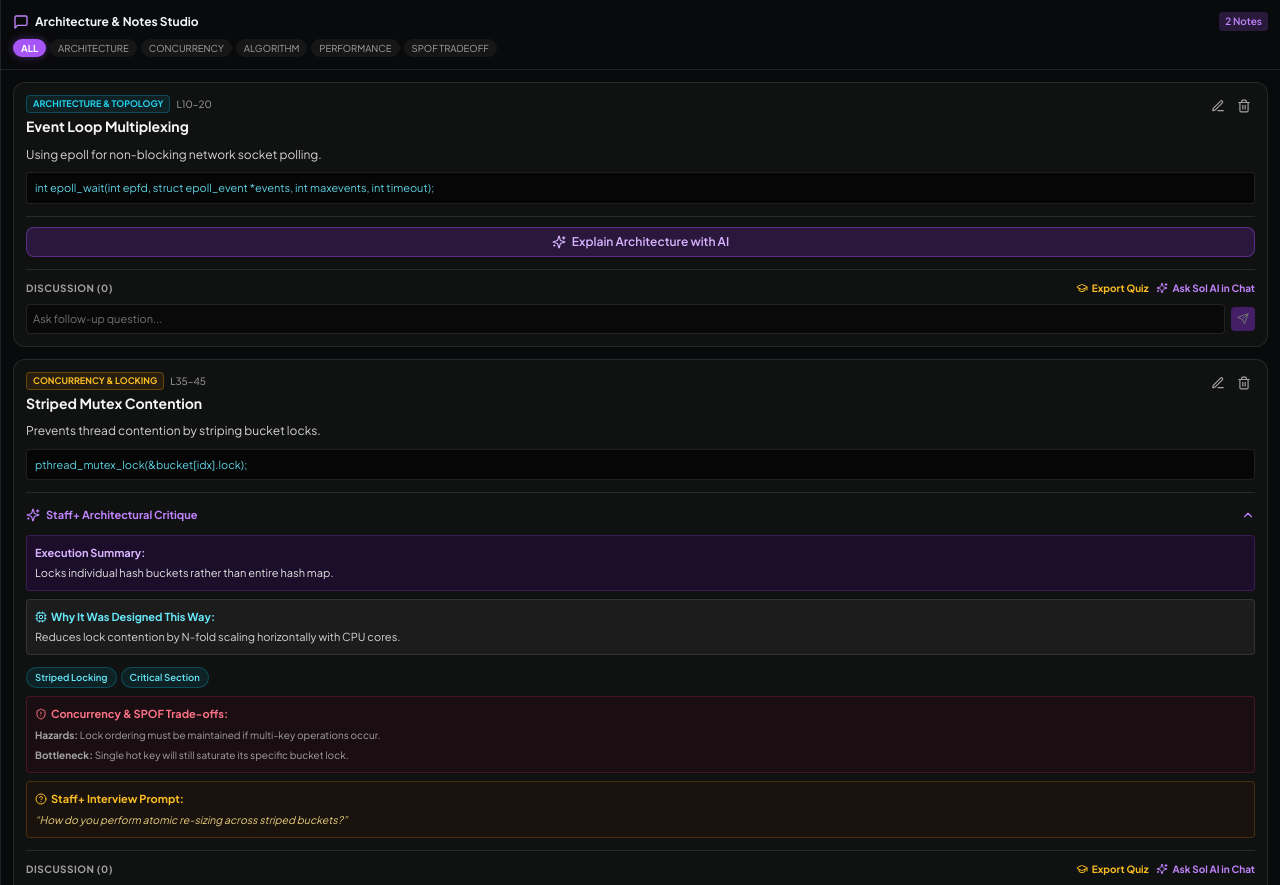
it: AnnotationDock › allows deleting annotation on trash click
This screenshot has width=1280, height=885.
Click the button with test id "delete-annotation-ANN-101" at [1244, 106], box [1233,95,1255,117]
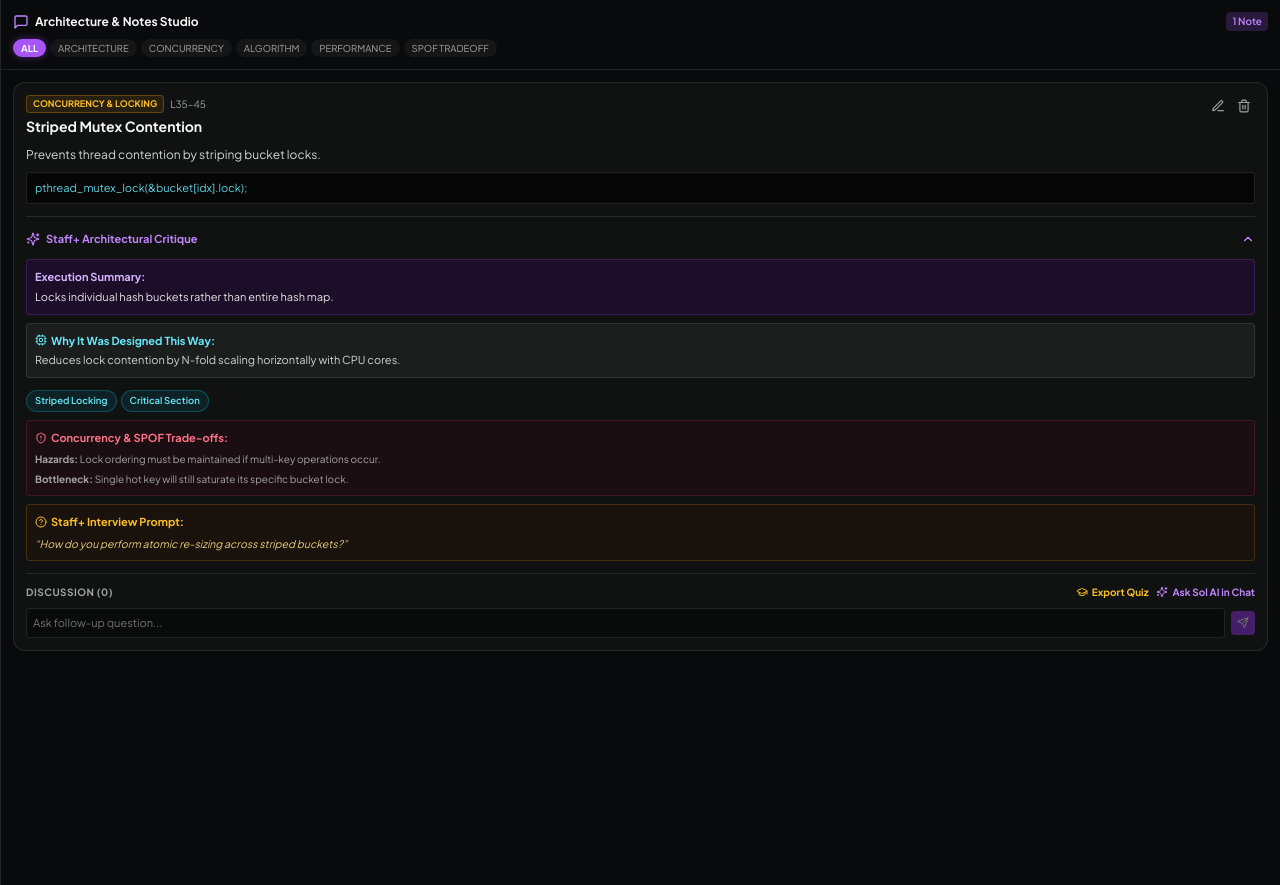
Now the heading "Event Loop Multiplexing" is gone
